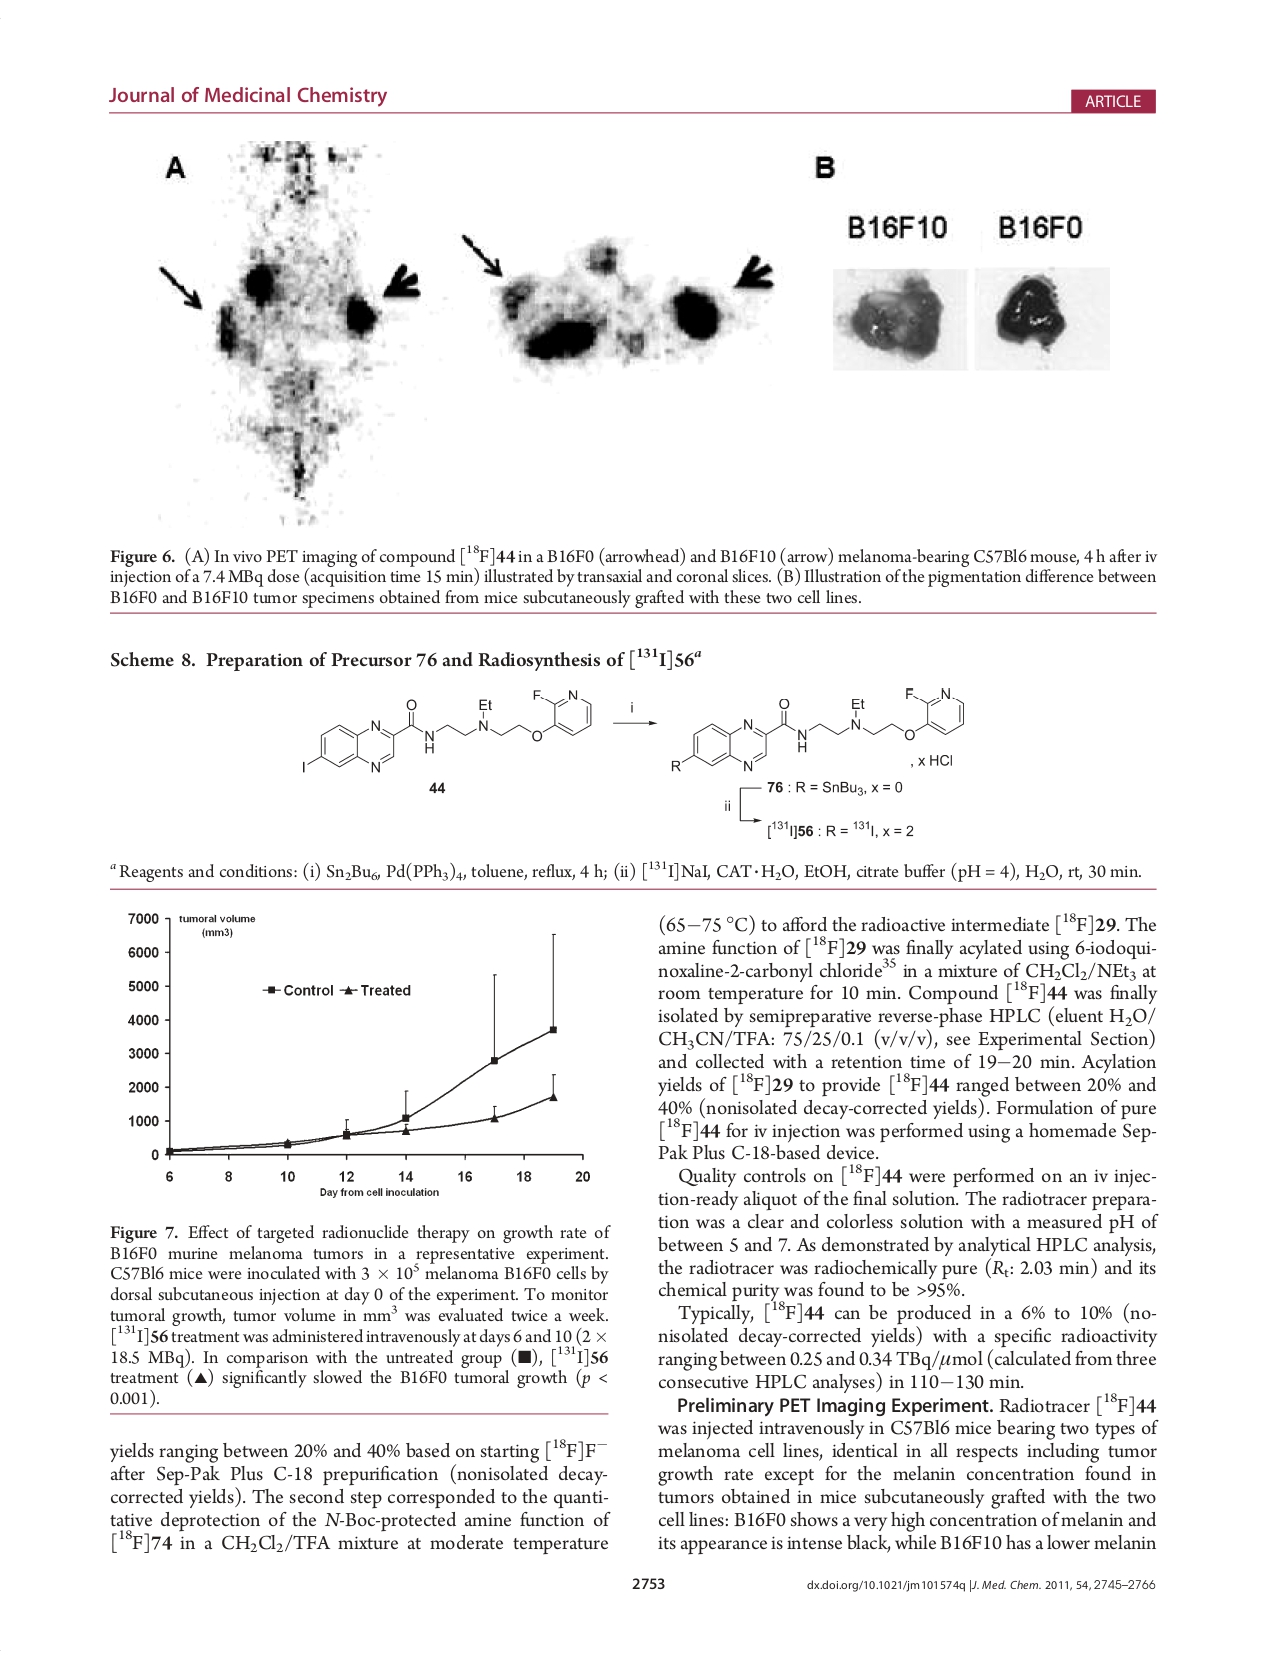exist_molecular: (668, 684, 967, 778), (297, 685, 594, 775)
